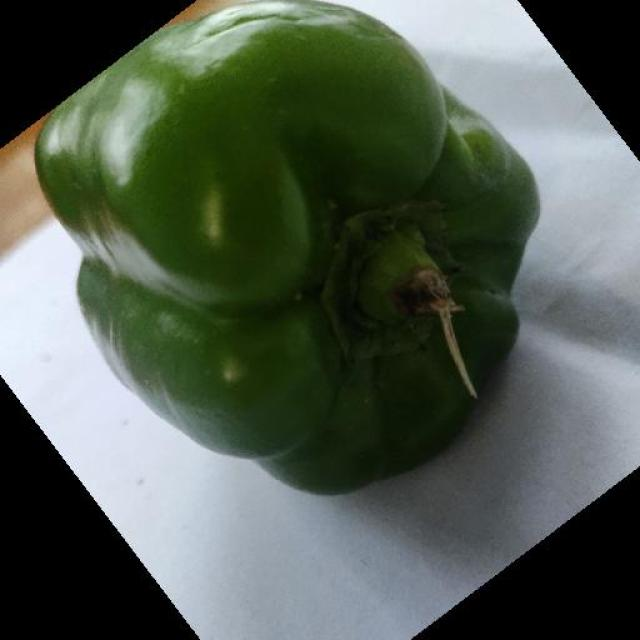Fresh_Capsicum: (33, 58, 521, 458)
